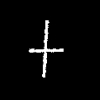single_crochet: (29, 21, 62, 76)
